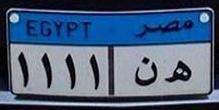1: (62, 51, 80, 93), (37, 51, 55, 91), (85, 51, 102, 93), (17, 52, 31, 89)
haa: (162, 59, 194, 86)
noon: (132, 56, 159, 89)
